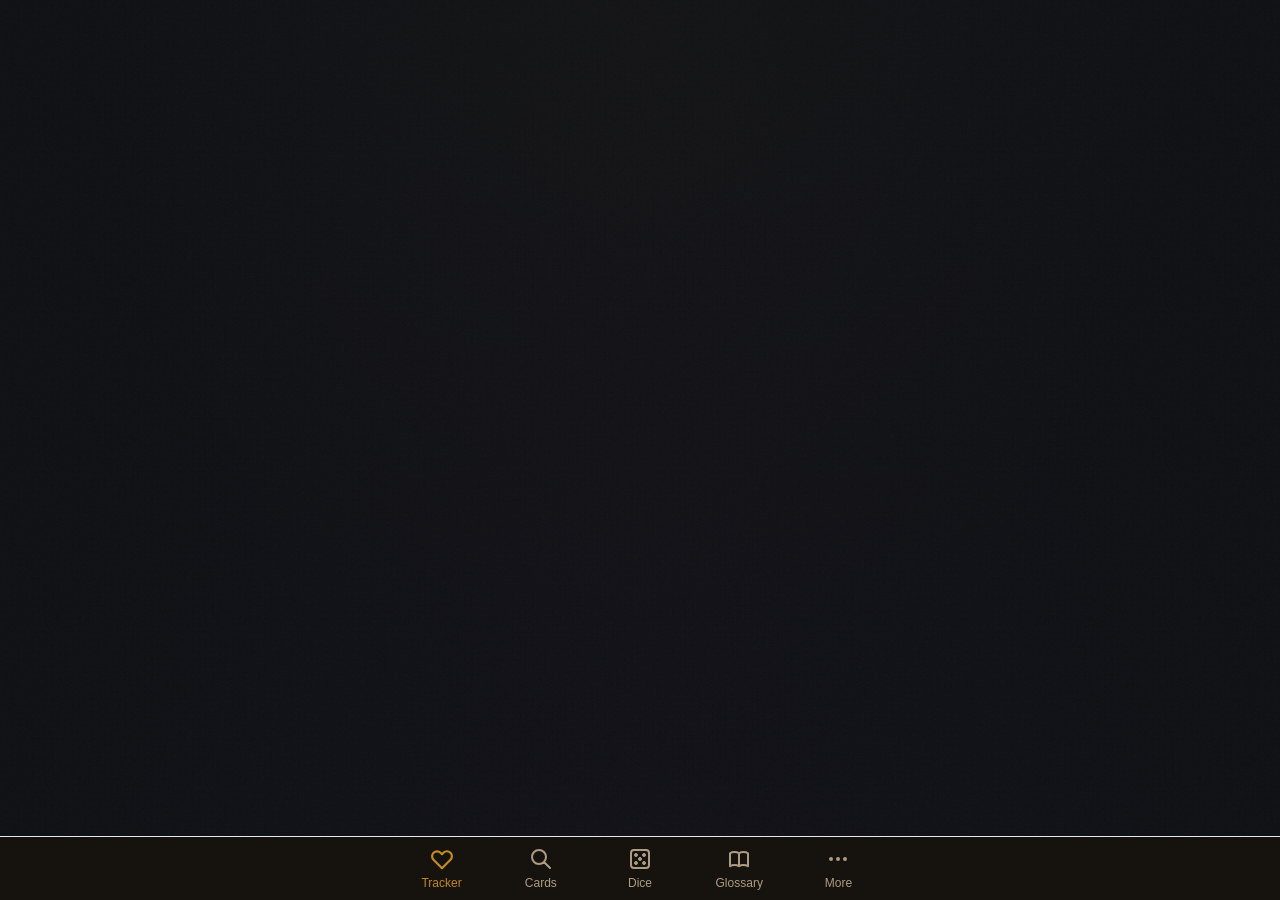
it: BottomNavBar (redesigned) › More drawer contains Stack Reference
Click the button with test id "more-button": coordinates (838, 868) [789,837,888,899]
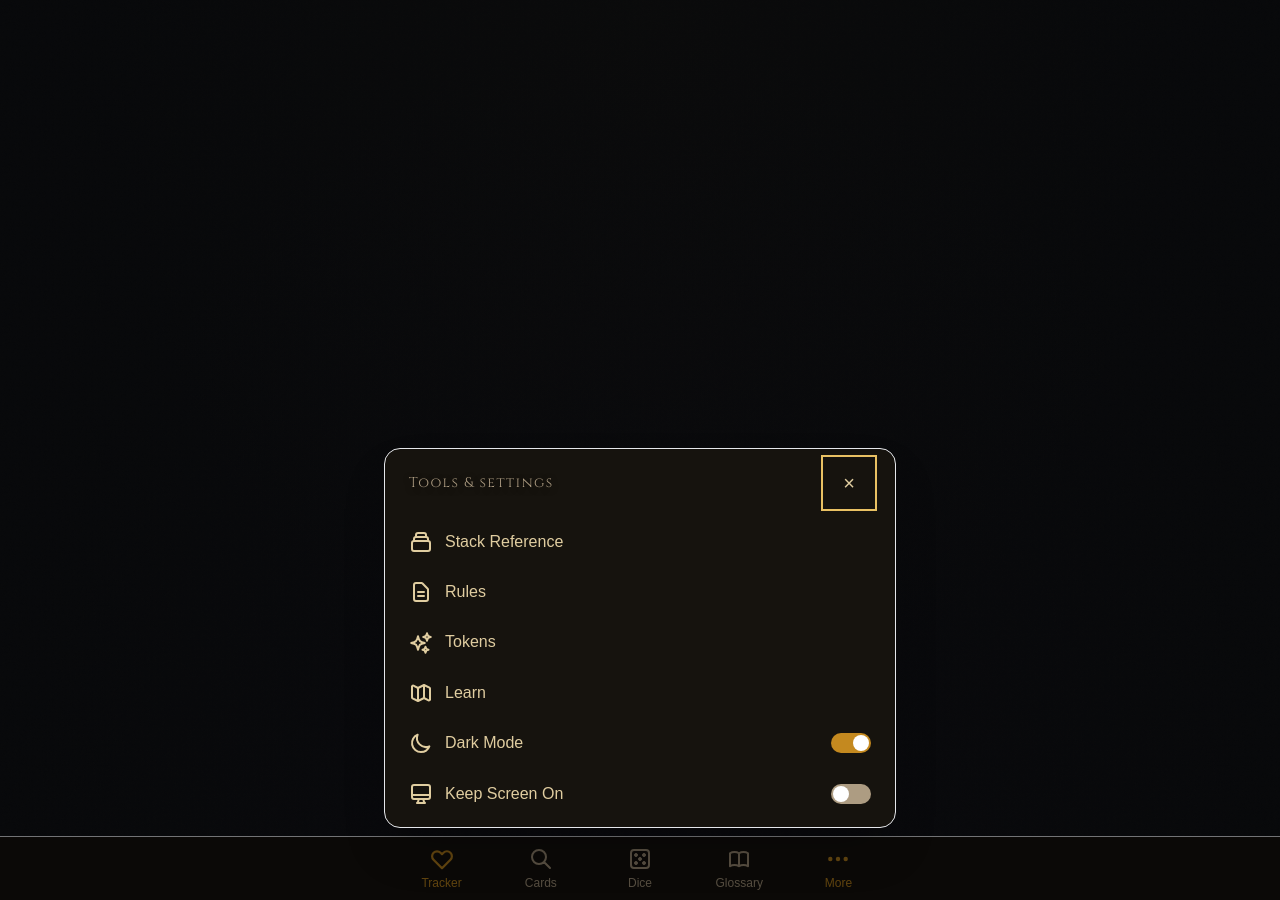
Check: the text "Stack Reference" is shown, box [445,529,563,555]
